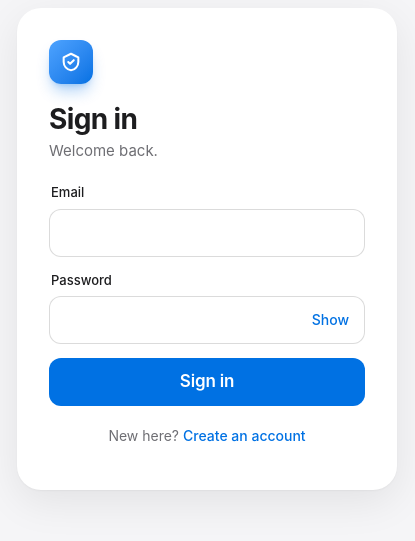
Test: SignInPage: validation › checks presence only and focuses the first empty field
What coordinates should you click on to do the following:
click the button "Sign in"
I would click on:
 (207, 382)
Its box is [49,358,365,406].
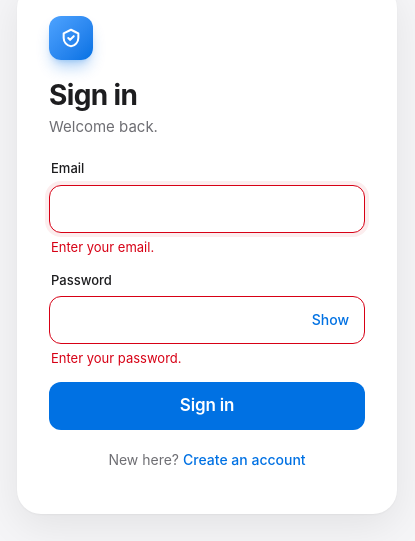
Check: the text "Enter your email." is shown, box [51,239,154,255]
Check: the text "Enter your password." is shown, box [51,350,182,366]
